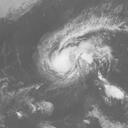cyclone: (34, 30, 112, 84)
